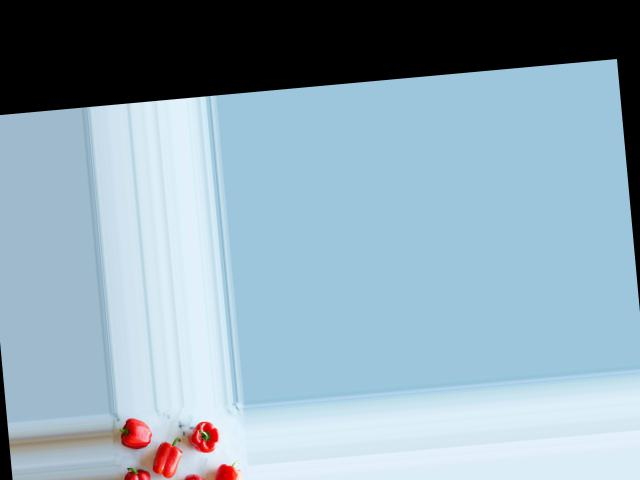bell_pepper: (177, 471, 209, 480)
